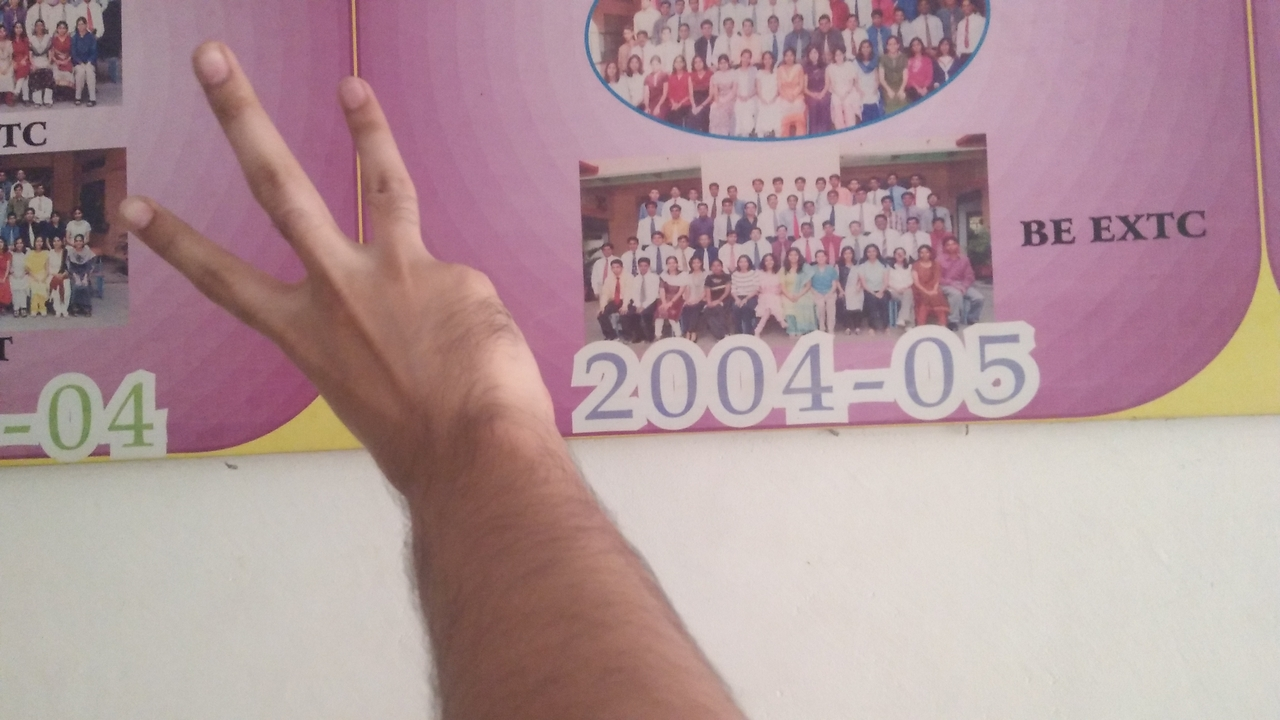fingertip: (324, 70, 386, 120), (180, 34, 238, 86), (117, 186, 161, 243)
